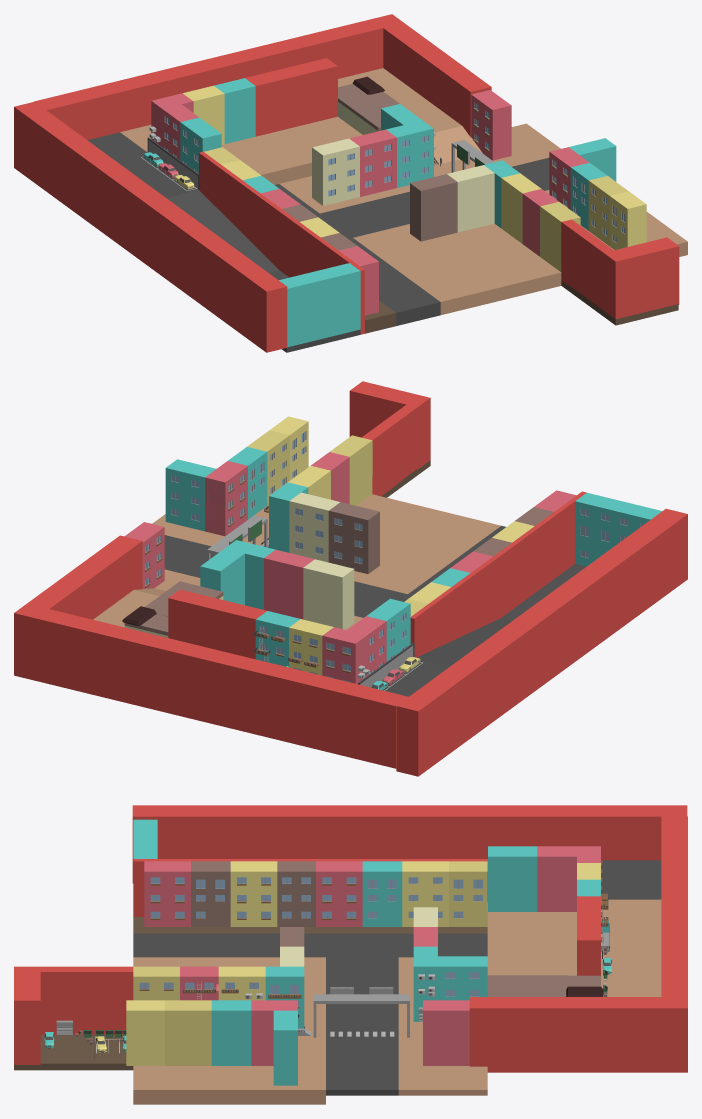
3 renders of one model, top to bottom at view 1: azimuth 30°, elevation 25°; view 2: azimuth 150°, elevation 25°; view 3: azimuth 270°, elevation 25°, orthographic. The views are drawn at different scales.
Parts seen in each view (by area): view 1: Wall_9, Wall_7, Ground_1, Apartment_Row_2, Slope, Wall_3, Wall_6, Wall_2, Apartment_23, Wall_5, Parking_Lot, Apartment_Row (+25 smaller); view 2: Wall_7, Wall_9, Wall_3, Ground_1, Apartment_Row_2, Wall_6, Wall_5, Apartment_23, Parking_Lot, Wall_1, Wall_2, Apartment_Row (+22 smaller); view 3: Wall_9, Apartment_Row, Wall_6, Apartment_Row_2, Slope, Ground_1, Main_Road_2, Main_Road_1, Wall_1, Wall_7, Ground_2, Apartment_22 (+22 smaller).
Part boxes in pixels (x1,y1,x2,y2): Wall_9: (14,101,287,352); Wall_7: (34,19,383,139); Ground_1: (353,190,687,314); Apartment_Row_2: (471,90,646,249); Slope: (120,68,482,188); Wall_3: (199,151,364,334); Wall_6: (371,14,491,137); Wall_2: (603,237,679,318); Apartment_23: (279,263,360,347); Wall_5: (245,58,337,136); Parking_Lot: (87,132,360,352); Apartment_Row: (204,147,378,315); Wall_7: (35,609,408,768); Wall_9: (396,508,687,776); Wall_3: (410,491,586,657); Ground_1: (152,494,500,594); Apartment_Row_2: (124,416,308,588); Wall_6: (14,535,142,680); Wall_5: (168,589,266,659); Apartment_23: (575,492,662,566); Parking_Lot: (383,563,586,696); Wall_1: (362,404,417,496); Wall_2: (349,381,430,469); Apartment_Row: (404,490,576,616); Wall_9: (132,805,687,883); Apartment_Row: (144,861,487,926); Wall_6: (469,997,687,1072); Apartment_Row_2: (126,1000,469,1065); Slope: (487,899,661,996); Ground_1: (133,957,325,1104); Main_Road_2: (326,957,398,1095); Main_Road_1: (133,933,487,957); Wall_1: (40,966,133,1035); Wall_7: (661,816,687,997); Ground_2: (398,957,487,1095); Apartment_22: (488,846,537,911).
Bounding box in the file's own units: 66325 × 11600 × 83600.
